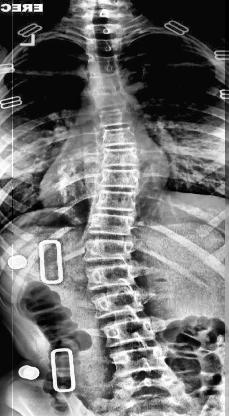Vertebrae: (116, 374, 182, 402), (110, 345, 170, 375), (99, 314, 157, 344), (81, 236, 141, 262), (94, 289, 148, 317), (86, 264, 140, 288), (99, 166, 150, 190), (86, 211, 136, 235), (94, 189, 140, 213), (102, 146, 150, 168), (100, 126, 144, 150), (82, 36, 124, 56), (95, 108, 139, 127), (88, 89, 132, 107), (89, 74, 127, 94), (86, 56, 124, 76)
